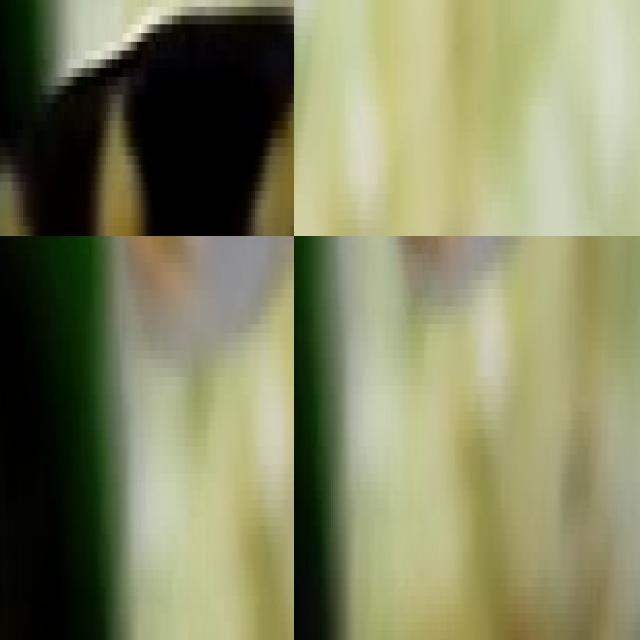fish: (0, 0, 294, 236), (91, 236, 294, 420)
